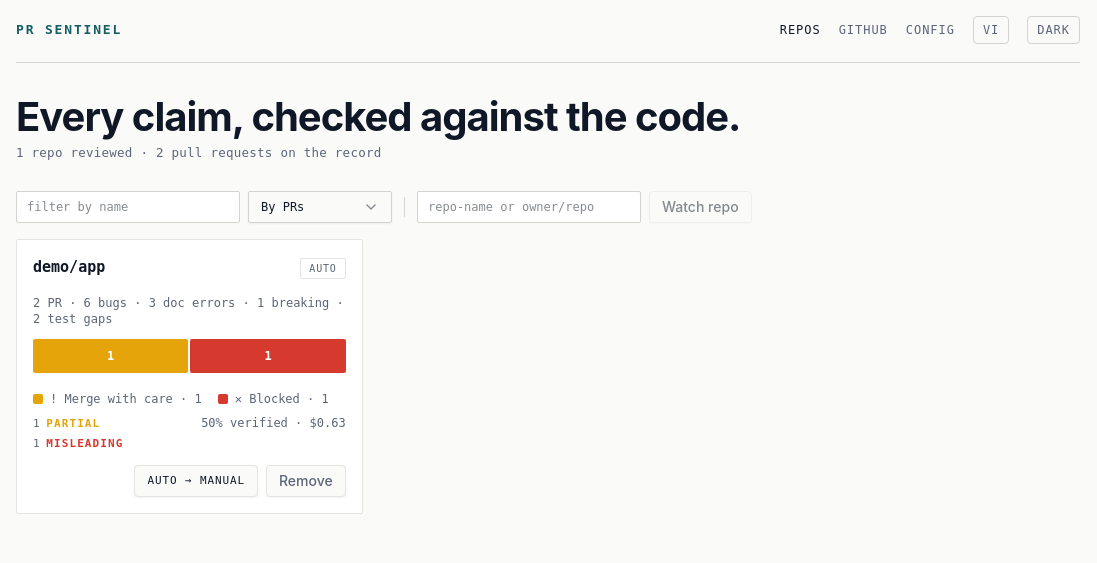
Scenario: App › renders the repo ledger in Vietnamese, with numbers landing inside their sentence
Click the button "VI".
click(991, 30)  # box [973,16,1009,44]
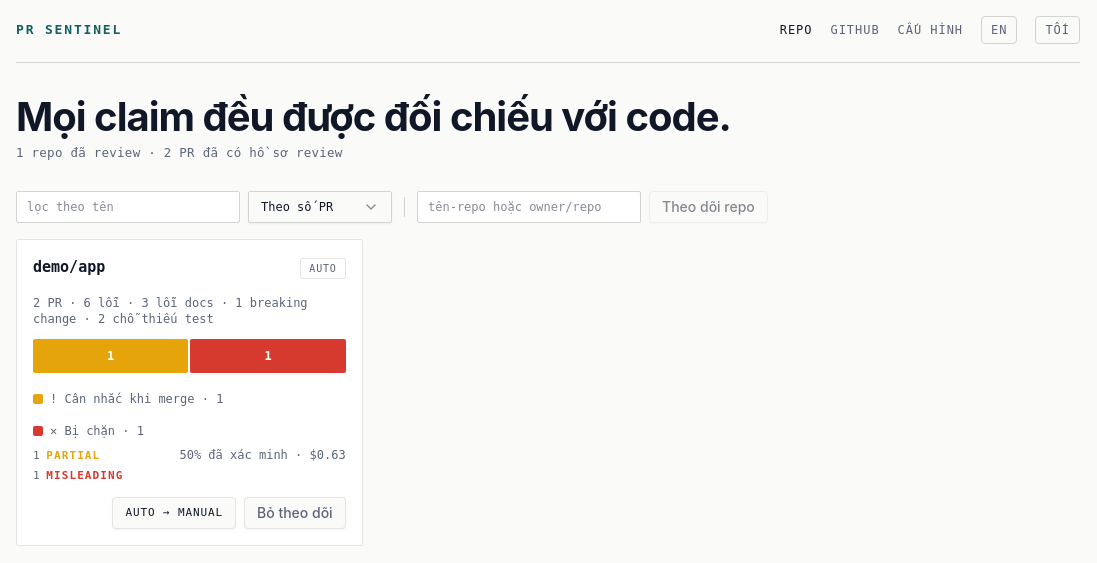
Now the text "6 lỗi" is shown, box [84,296,120,310]
Now the text "50% đã xác minh" is shown, box [180,448,288,462]
Now the text "6 bugs" is gone
Click the button "EN".
click(999, 30)  # box [981,16,1018,44]
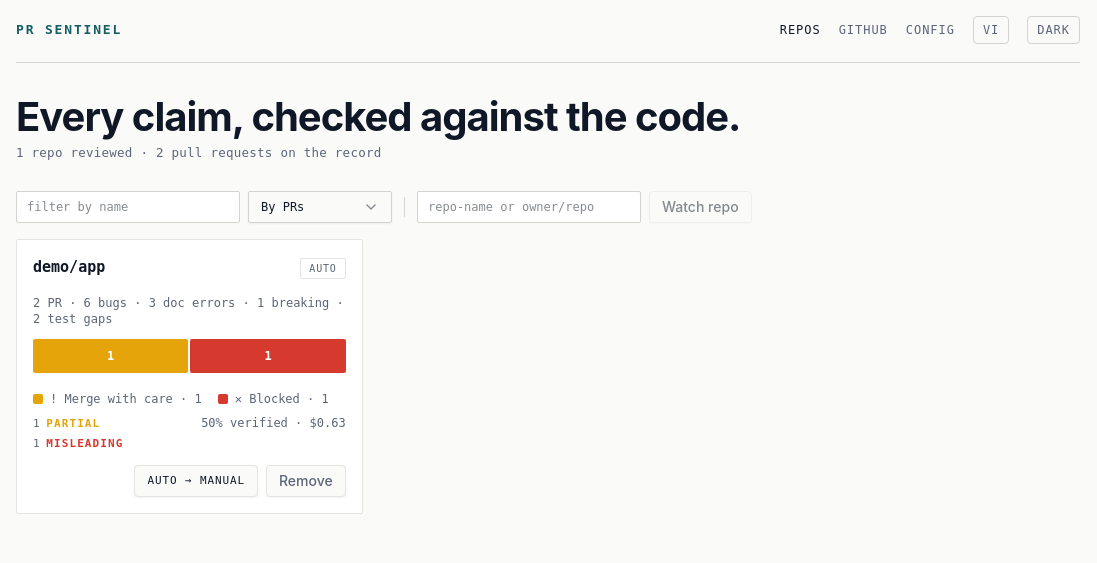
Now the text "6 bugs" is shown, box [84,296,127,310]
Now the text "50% verified" is shown, box [201,416,288,430]
